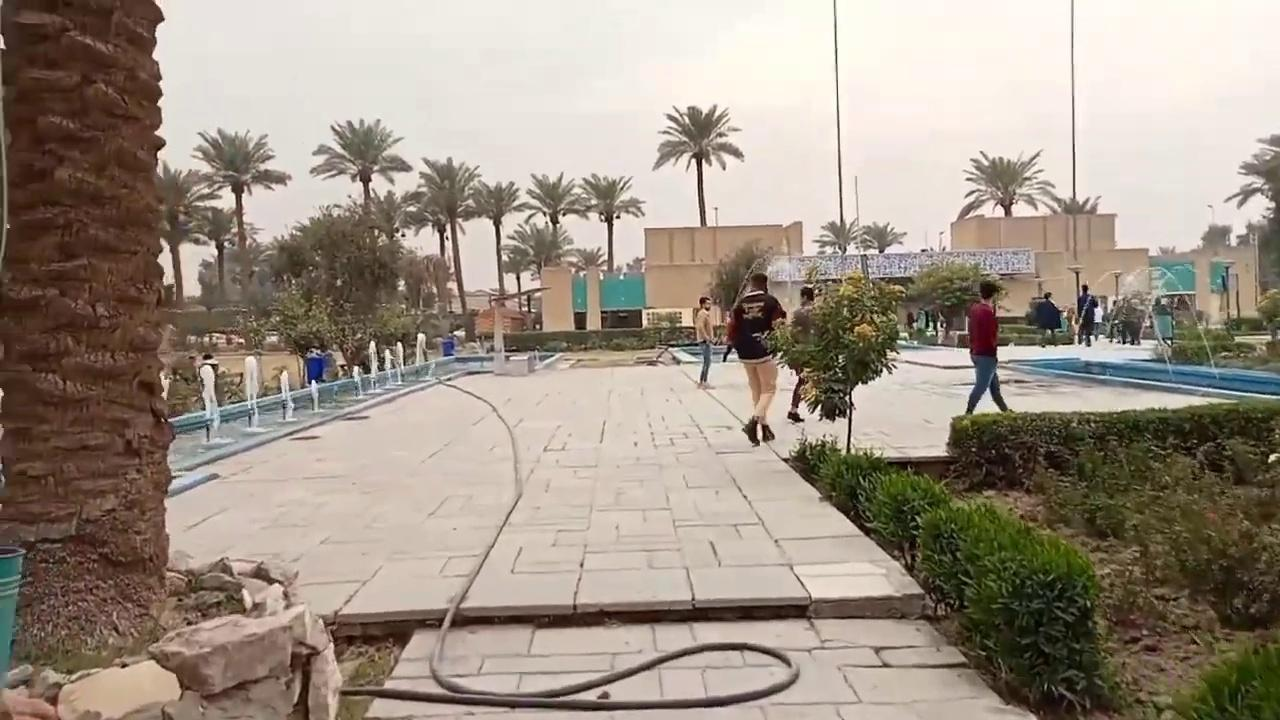fountain: (164, 326, 561, 474), (1004, 289, 1278, 400), (1004, 352, 1278, 400), (435, 304, 562, 376)
person: (724, 272, 787, 446), (964, 280, 1012, 415), (786, 285, 819, 422), (693, 296, 715, 388), (1035, 291, 1061, 347), (1076, 283, 1094, 346)
tree: (762, 267, 905, 452), (266, 200, 411, 377), (309, 116, 412, 310), (189, 126, 291, 302), (403, 155, 484, 339), (651, 102, 744, 226), (153, 159, 220, 309), (309, 116, 412, 206), (1223, 131, 1279, 281), (264, 285, 337, 388), (466, 179, 524, 306), (573, 172, 645, 272), (958, 147, 1055, 218), (906, 258, 983, 336), (704, 237, 774, 314), (1039, 184, 1101, 261), (193, 205, 238, 299), (505, 220, 573, 281), (520, 170, 582, 229), (565, 246, 607, 330), (396, 250, 450, 314), (365, 188, 411, 242), (812, 216, 870, 255), (500, 241, 532, 311), (1039, 184, 1101, 215), (857, 220, 906, 253), (978, 272, 1008, 314), (567, 246, 607, 273), (1199, 221, 1232, 251)
